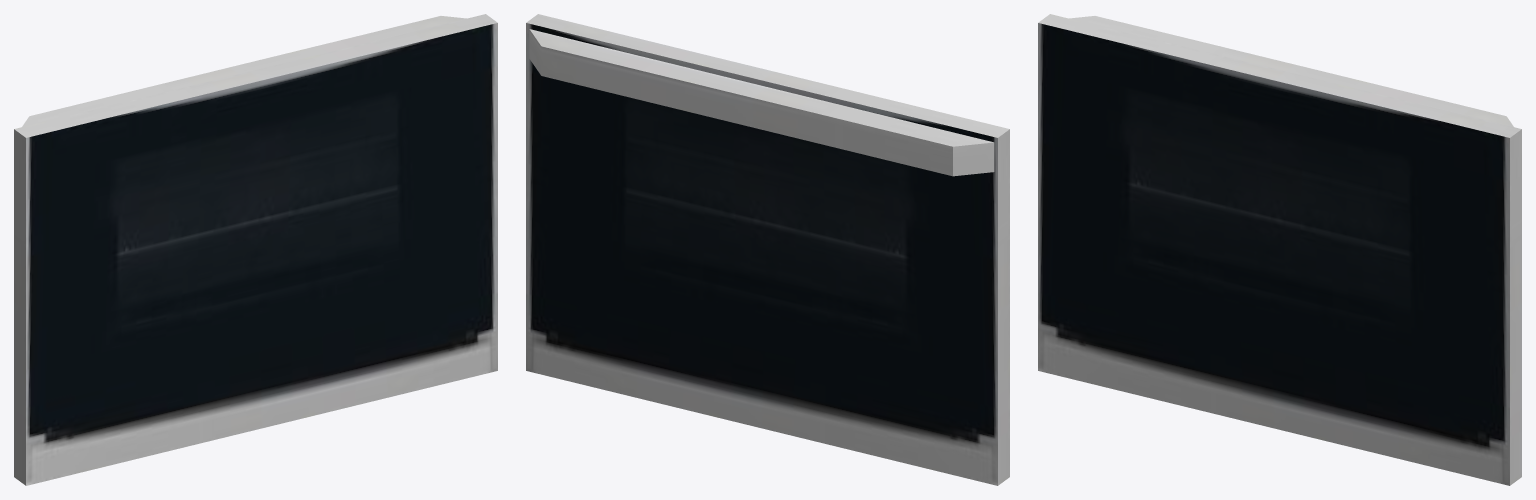
File: Stove_door_04.glb
The picture shows the model from 3 angles, left to right: view 1: azimuth 30°, elevation 25°; view 2: azimuth 150°, elevation 25°; view 3: azimuth 330°, elevation 25°; orthographic projection.
Parts seen in each view (by area): view 1: Stove_door_04; view 2: Stove_door_04; view 3: Stove_door_04.
Boxes of the visible parts, box(x1,y1,x2,y2) form: Stove_door_04: box(14, 14, 497, 485); Stove_door_04: box(526, 14, 1009, 485); Stove_door_04: box(1038, 14, 1521, 485).
Bounding box in the file's own units: 0.8921 × 0.6288 × 0.0882.
Materials: 1 (1 with a texture image).
